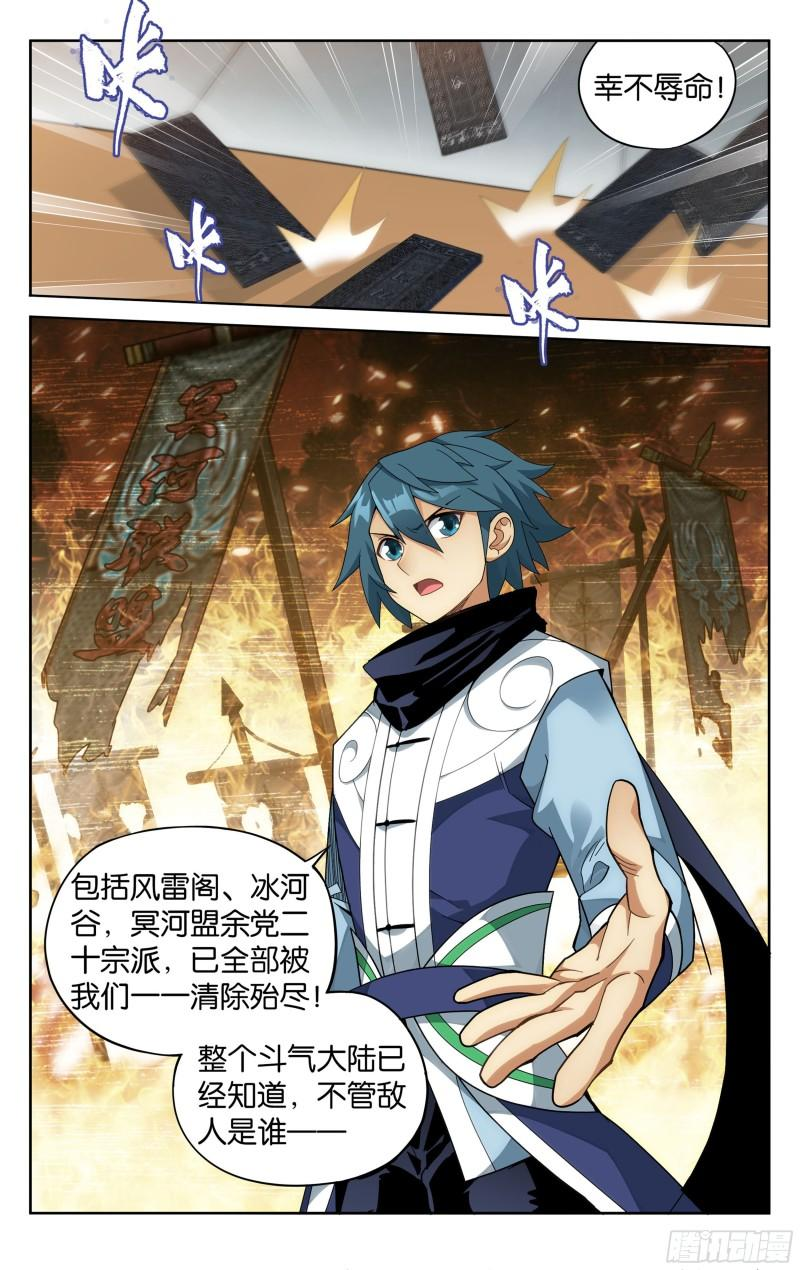boxEllipse: (41, 824, 332, 1025), (168, 1030, 423, 1186), (576, 41, 738, 149)
minBox: (26, 313, 770, 1215), (30, 38, 768, 332)
